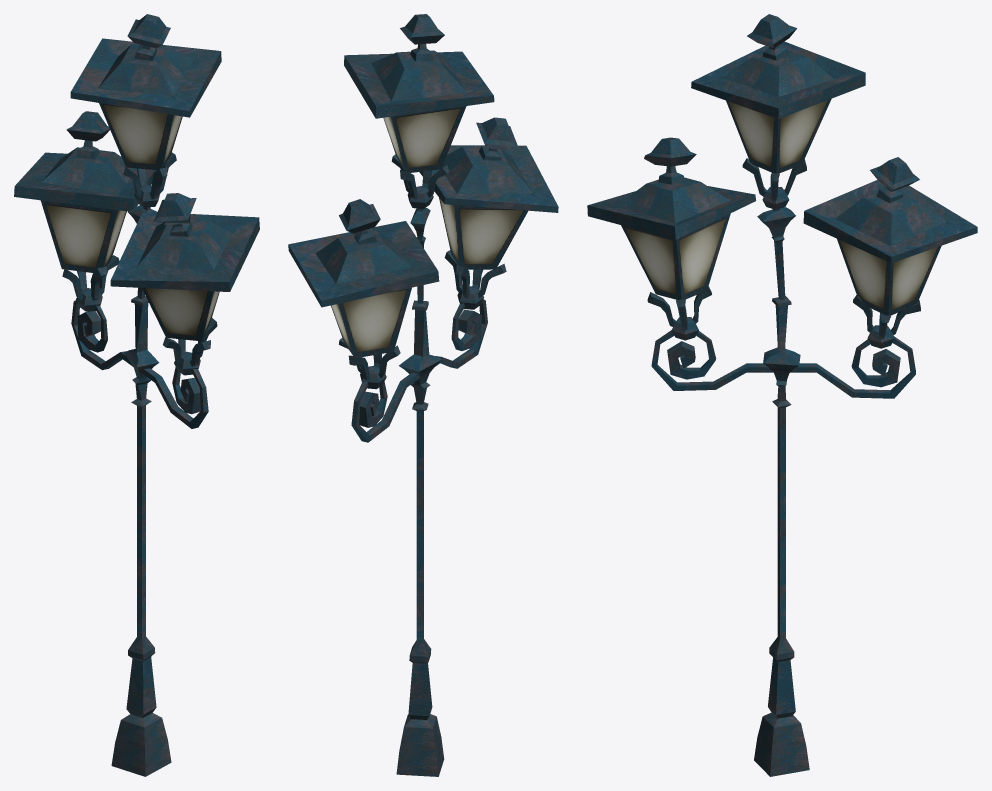
File: Street Light.glb
The picture shows the model from 3 angles, left to right: view 1: azimuth 30°, elevation 25°; view 2: azimuth 150°, elevation 25°; view 3: azimuth 270°, elevation 25°; orthographic projection.
Visible parts, largest first — view 1: lantern_e_wholeffff.3; view 2: lantern_e_wholeffff.3; view 3: lantern_e_wholeffff.3.
Part boxes in pixels (box(x1,y1,x2,y2)): lantern_e_wholeffff.3: box(14, 14, 259, 776); lantern_e_wholeffff.3: box(288, 14, 558, 776); lantern_e_wholeffff.3: box(587, 14, 977, 776).
Size of the model in its own units: 0.0134 by 0.0587 by 0.0277.
Materials: 1 (1 with a texture image).
